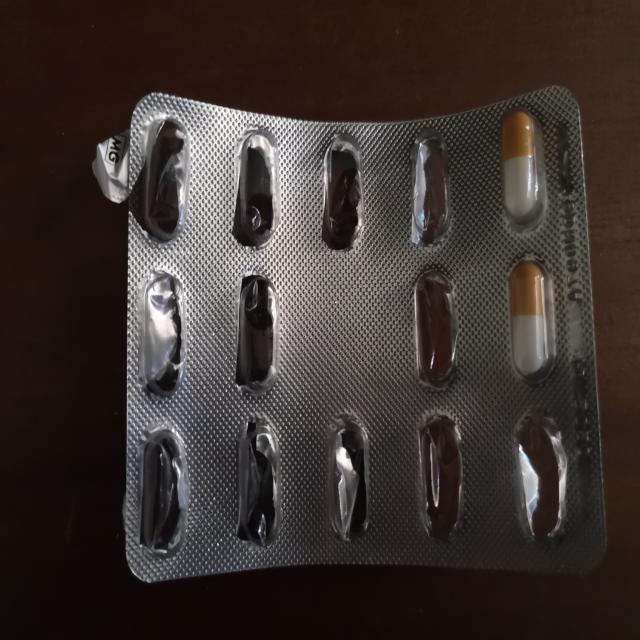Empty: (507, 407, 577, 545), (131, 419, 197, 562), (317, 406, 381, 550), (409, 406, 471, 550), (134, 262, 193, 406), (231, 408, 288, 554), (137, 106, 194, 250), (406, 269, 468, 396), (227, 119, 284, 254), (401, 126, 459, 256), (230, 265, 284, 403), (314, 128, 370, 257)
Pill: (502, 254, 560, 386), (492, 107, 549, 236)
